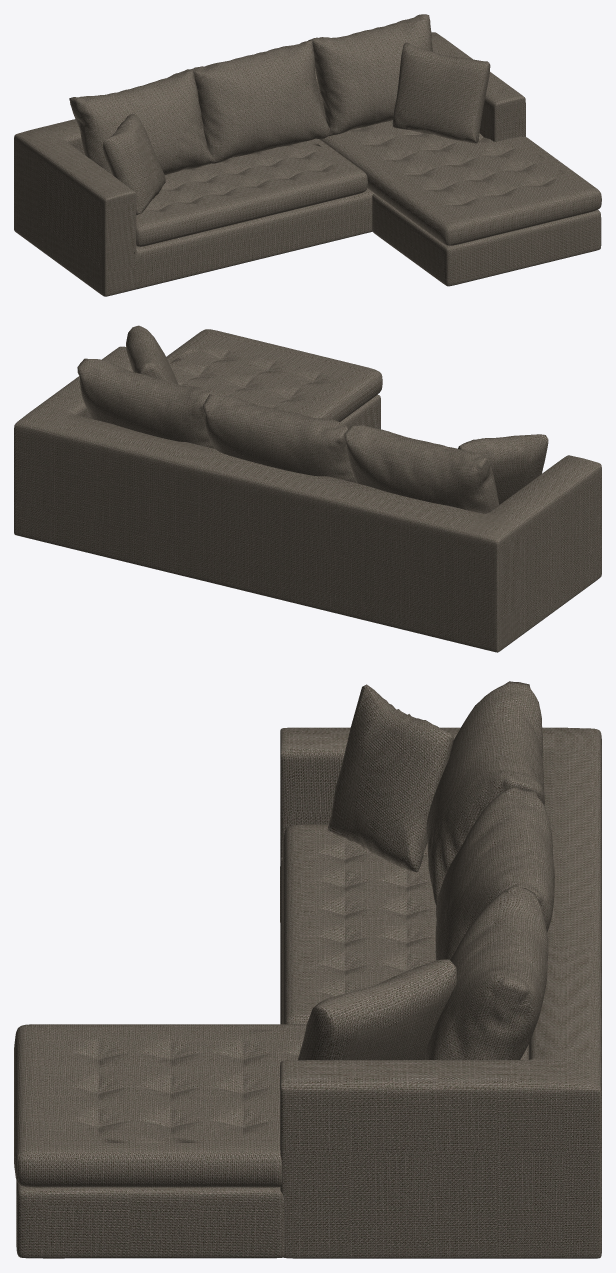
Rendered from Siena-Ottawa-edit-2.glb.
The picture shows the model from 3 angles, top to bottom: view 1: azimuth 30°, elevation 25°; view 2: azimuth 150°, elevation 25°; view 3: azimuth 270°, elevation 25°; orthographic projection. The views are drawn at different scales.
Visible parts, largest first — view 1: Siena Ottawa.003; view 2: Siena Ottawa.003; view 3: Siena Ottawa.003.
Boxes of the visible parts, bbox=[...] form: Siena Ottawa.003: bbox=[14, 14, 601, 296]; Siena Ottawa.003: bbox=[14, 325, 601, 652]; Siena Ottawa.003: bbox=[14, 681, 601, 1258].
Size of the model in its own units: 2.28 by 0.7357 by 1.57.
1 material, 1 textured.
